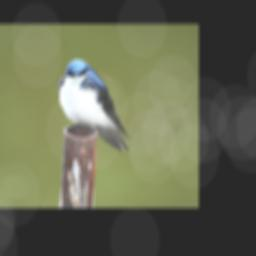Swallow: (57, 58, 131, 152)
